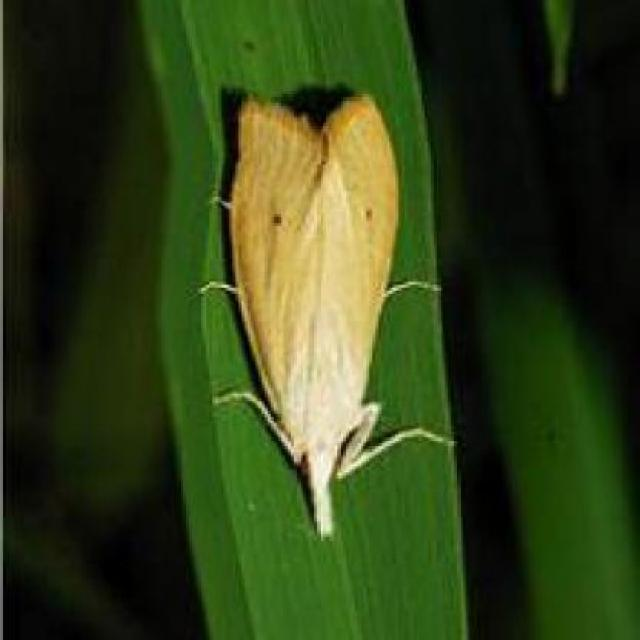stem-borer: (200, 89, 457, 537)
